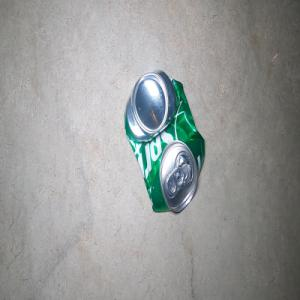SodaCan: (124, 68, 204, 213)
